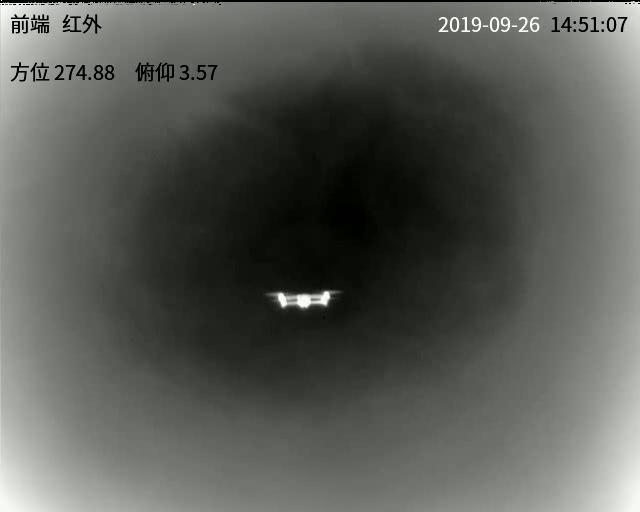DRONE: (271, 290, 335, 308)
